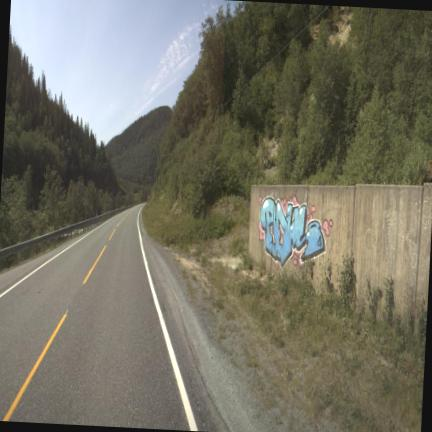Road: (0, 205, 207, 429)
